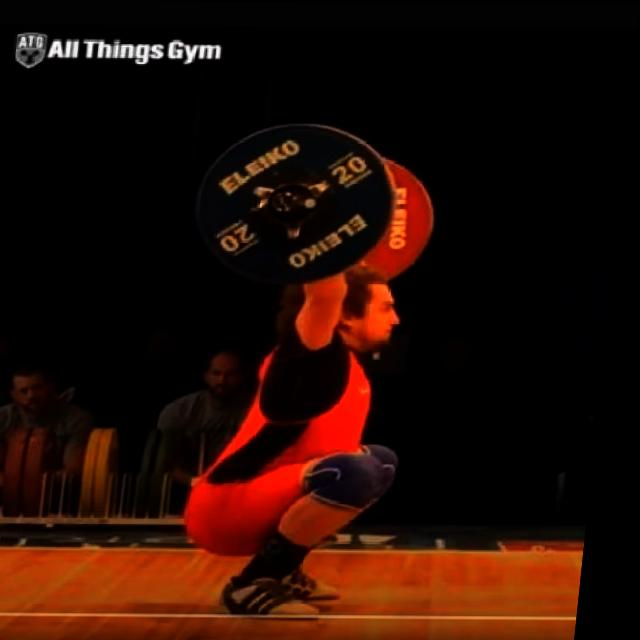barbell: (190, 117, 408, 285)
